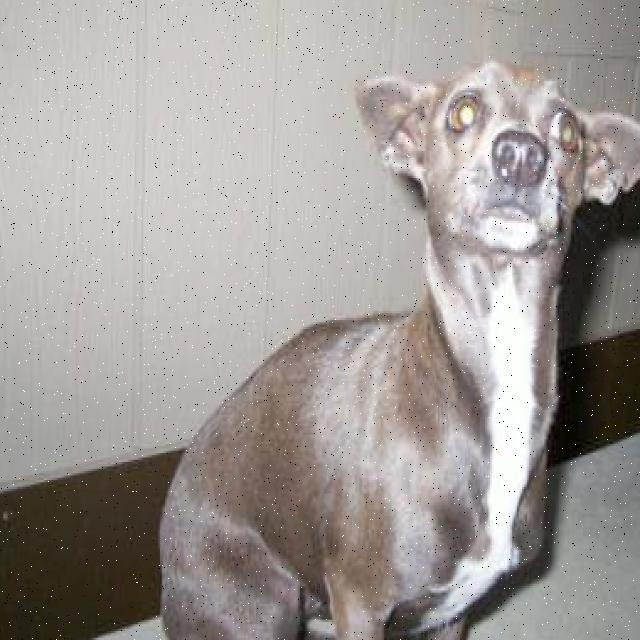Dog: (330, 56, 640, 266)
